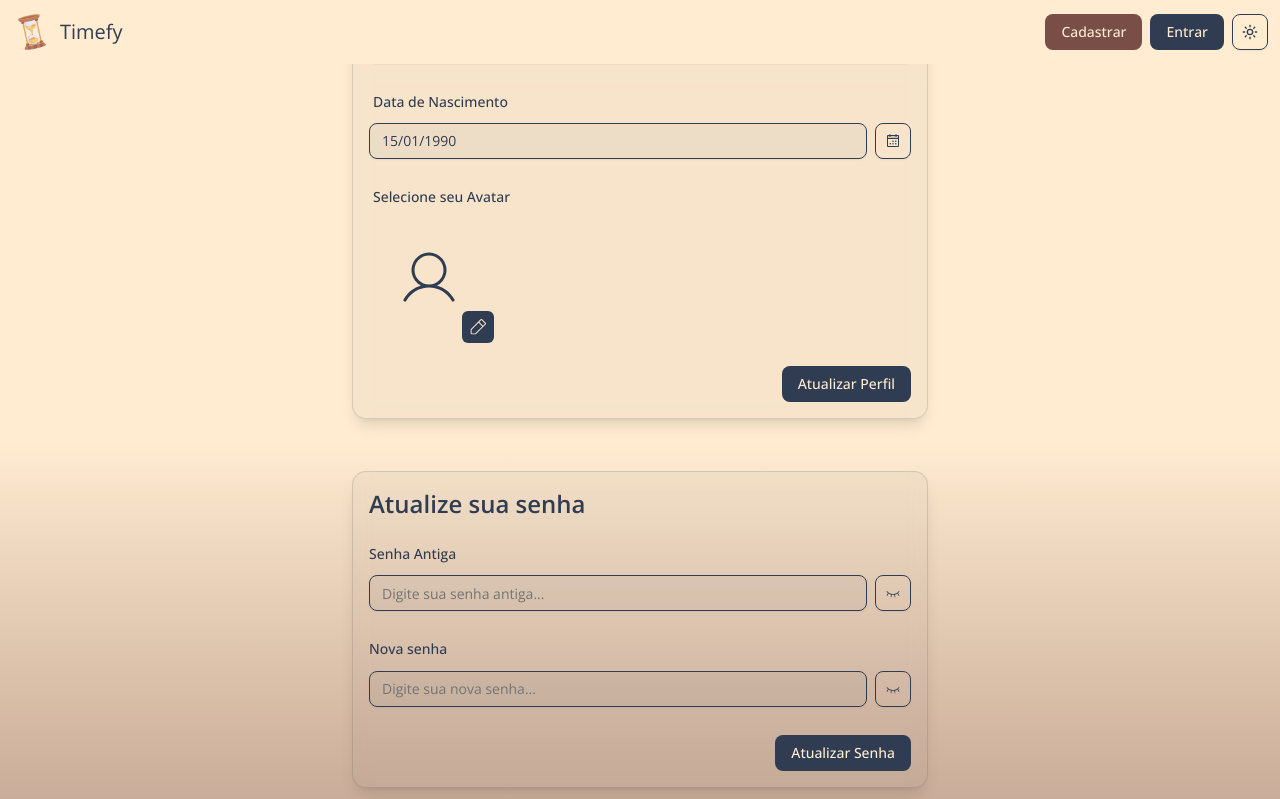
Test case: ProfilePage › Password Update Form Validation › should show error when old password is too short
(page scrolled)
Type "Pass1!" into the password field labelled "Senha Antiga".
click(618, 593); type("Pass1!")  # box [369,575,867,611]
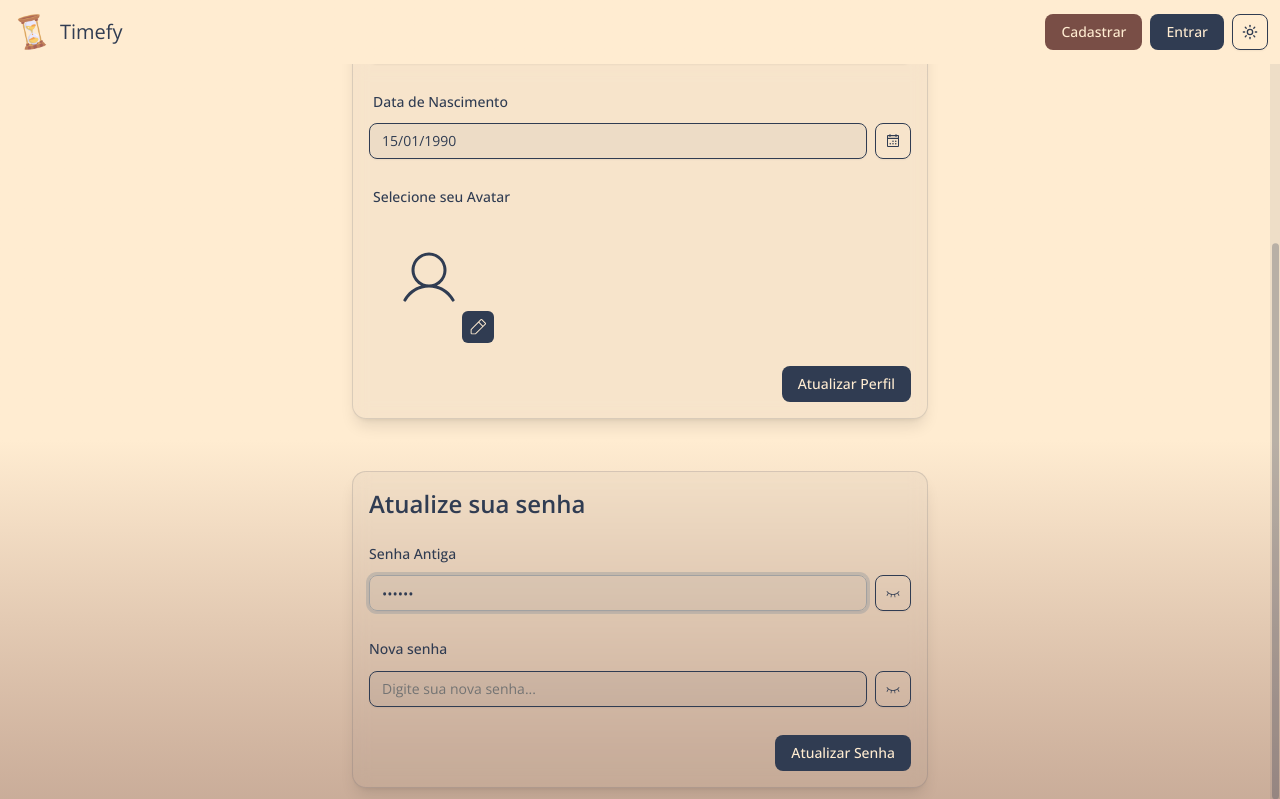
Click the button "Atualizar Senha".
click(843, 752)  # box [775,734,911,770]
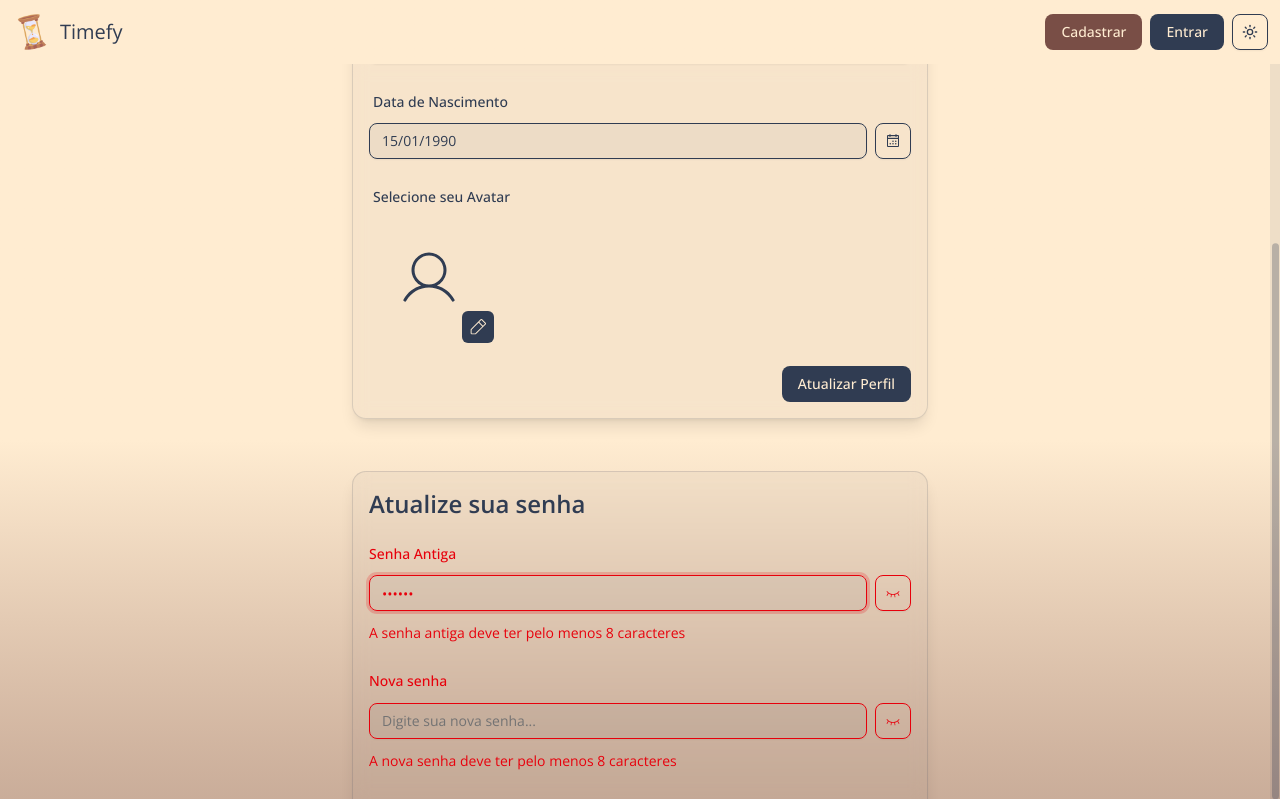
Now the text "A senha antiga deve ter pelo menos 8 caracteres" is shown, box [369,623,685,642]
